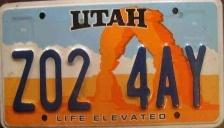0: (38, 48, 64, 112)
2: (65, 46, 95, 112)
4: (125, 44, 155, 111)
A: (153, 42, 182, 109)
Y: (180, 43, 210, 109)
Z: (10, 48, 37, 114)
